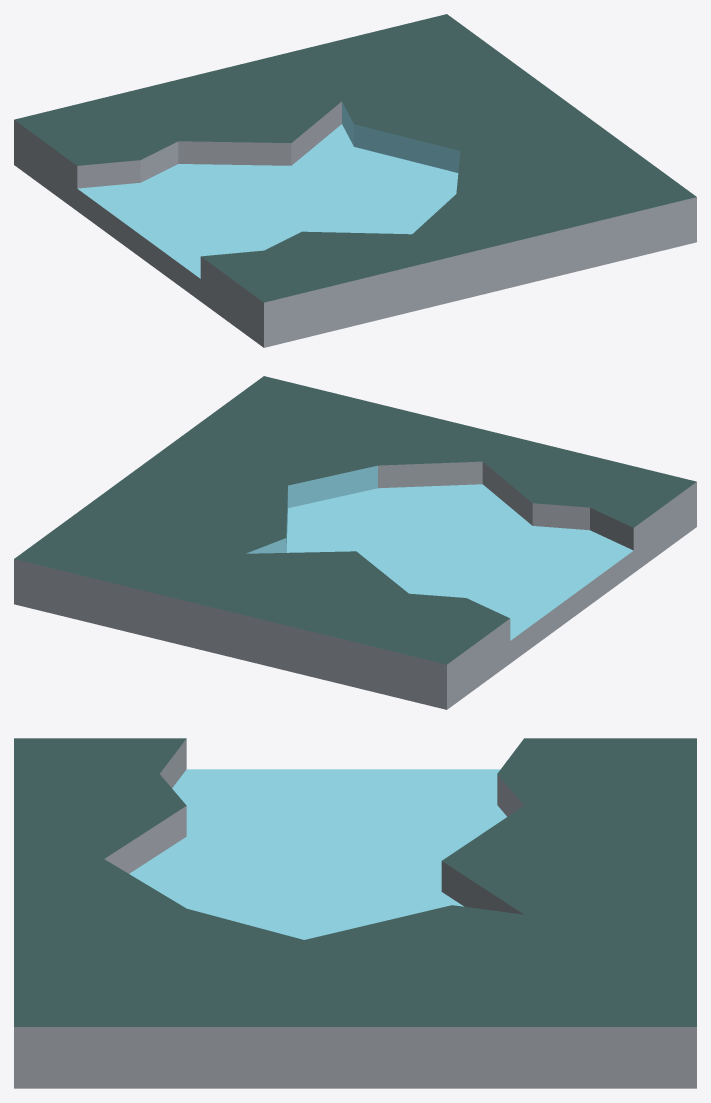
File: Plate_River_Plungepool_01.obj
3 renders of one model, top to bottom at view 1: azimuth 30°, elevation 25°; view 2: azimuth 150°, elevation 25°; view 3: azimuth 270°, elevation 25°, orthographic. The views are drawn at different scales.
Visible parts, largest first — view 1: Mesh1_Plate_River_Model.000; view 2: Mesh1_Plate_River_Model.000; view 3: Mesh1_Plate_River_Model.000.
Part boxes in pixels (x1,y1,x2,y2): Mesh1_Plate_River_Model.000: [14, 14, 696, 347]; Mesh1_Plate_River_Model.000: [14, 376, 696, 709]; Mesh1_Plate_River_Model.000: [14, 738, 696, 1088].
Bounding box in the file's own units: 3 × 0.3 × 3.
